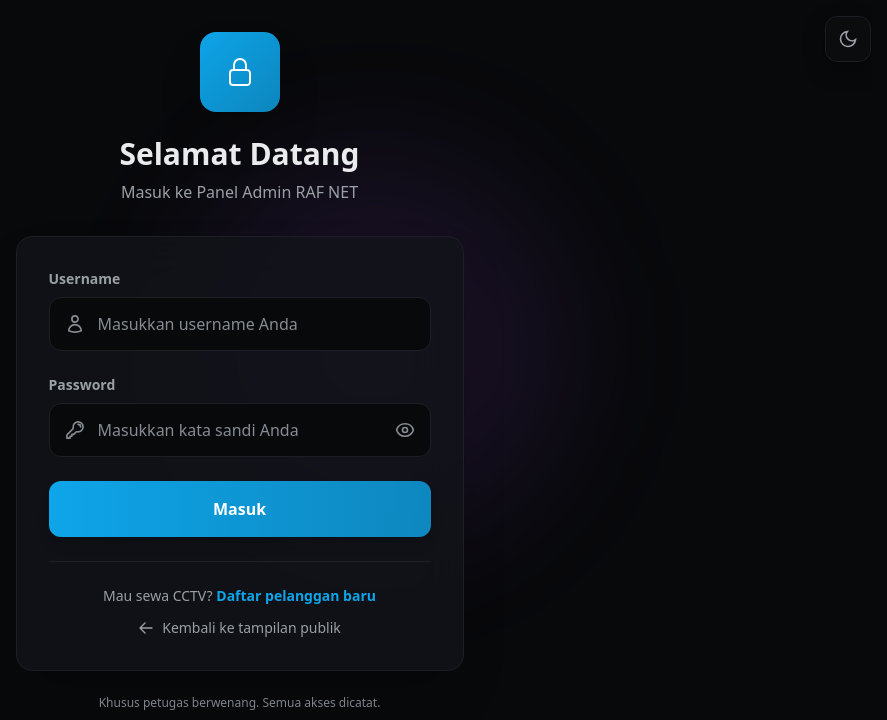
LoginPage — TOTP second factor › an expired pending token drops back to the password step
In the field labelled "Username": (240, 324) [48,297,430,351], type "admin"
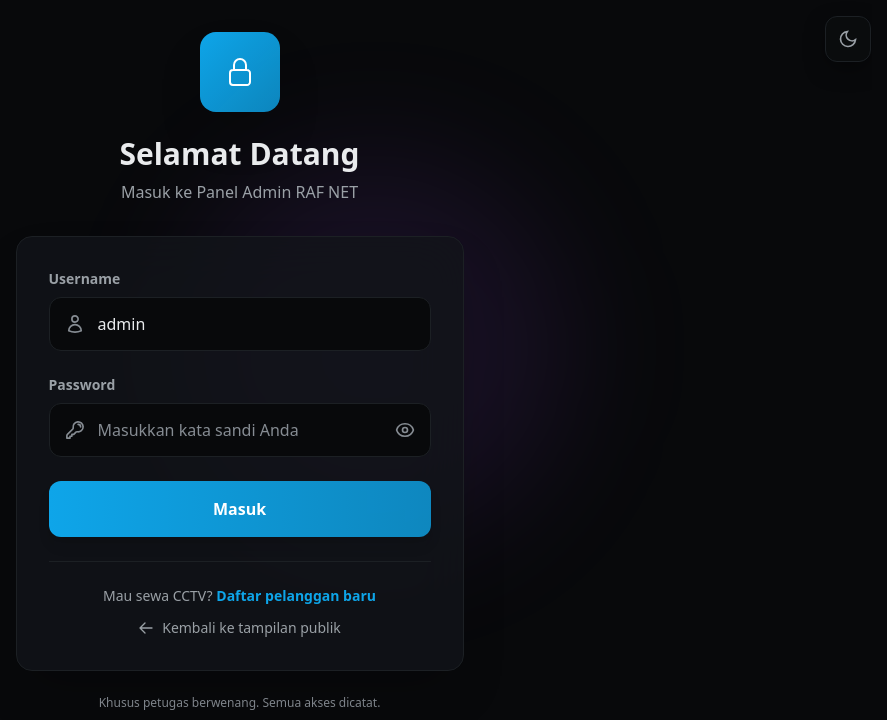
In the password field labelled "Password": (240, 430) [48,403,430,457], type "secret"
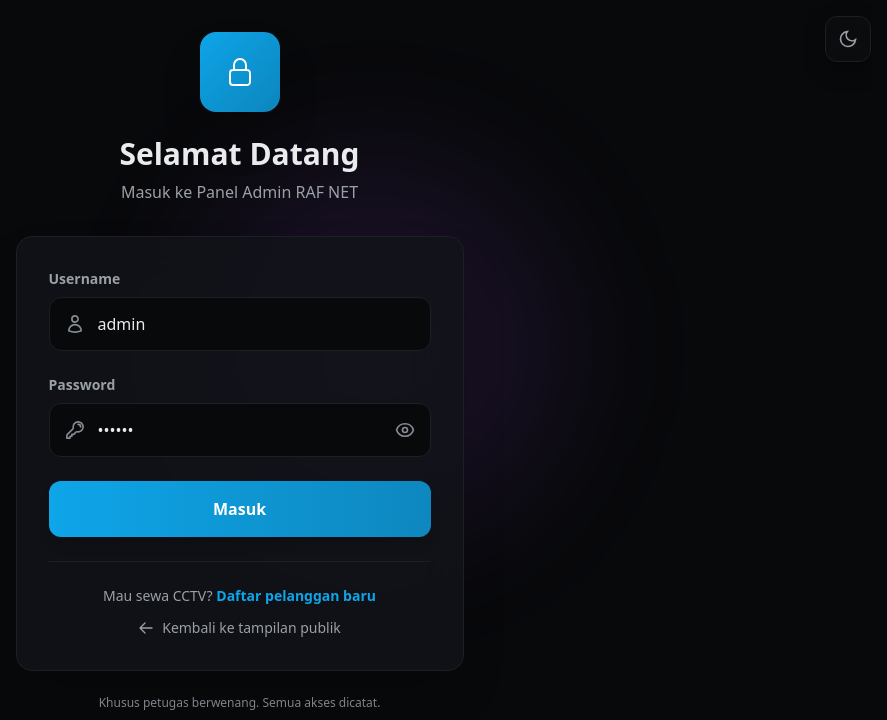
Click the button "Masuk": (240, 509) [48,481,430,537]
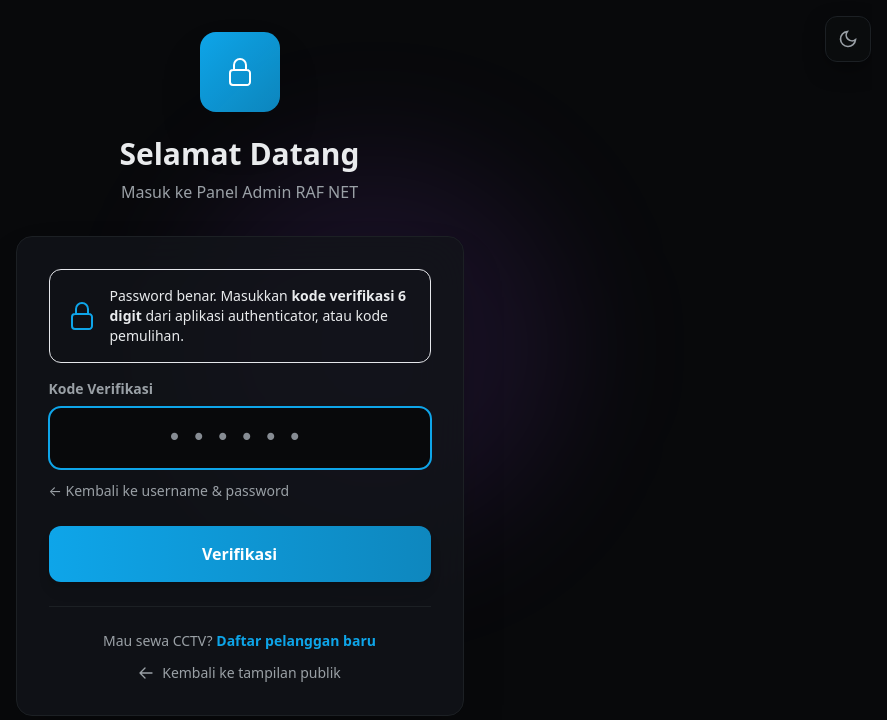
Expected: the field labelled "Kode Verifikasi" is shown
In the field labelled "Kode Verifikasi": (240, 438) [48,407,430,469], type "123456"
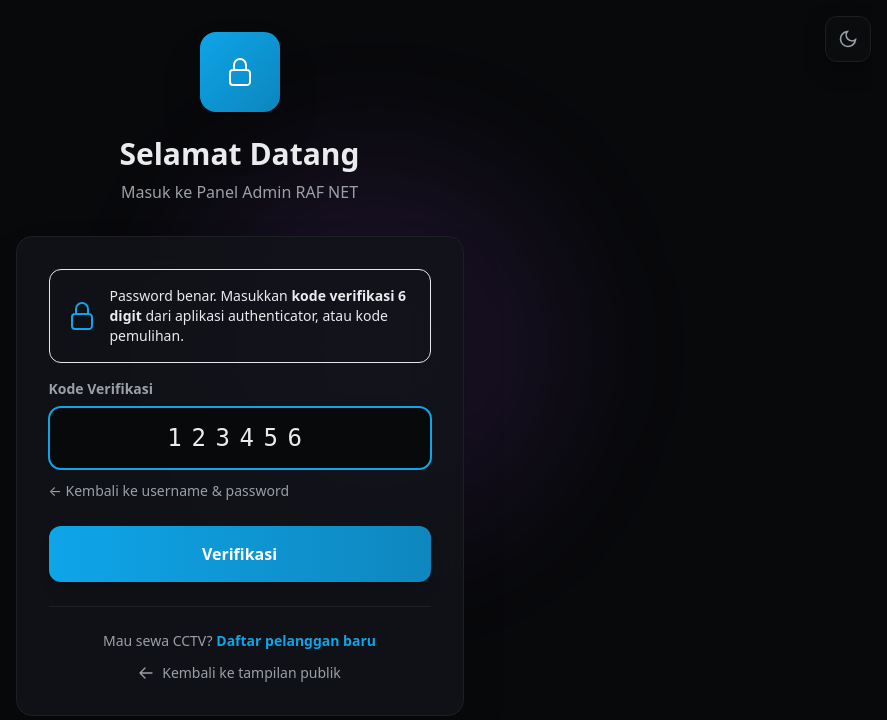
Click the button "Verifikasi": (240, 554) [48,526,430,582]
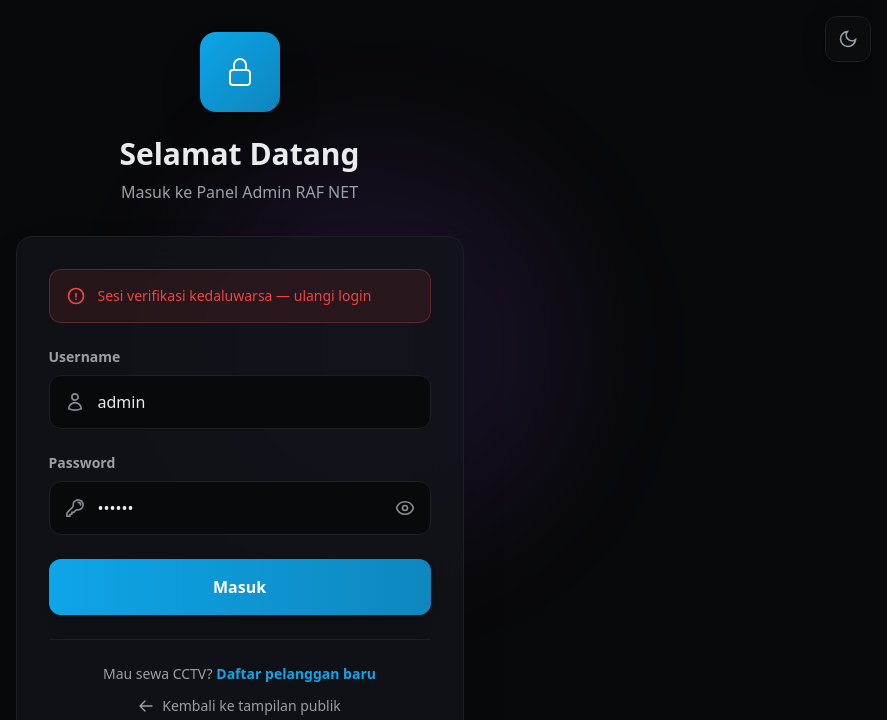
Expected: the field labelled "Username" is shown, [48,375,430,429]
